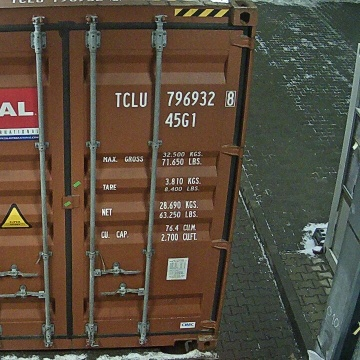serial_id: (115, 91, 235, 107)
